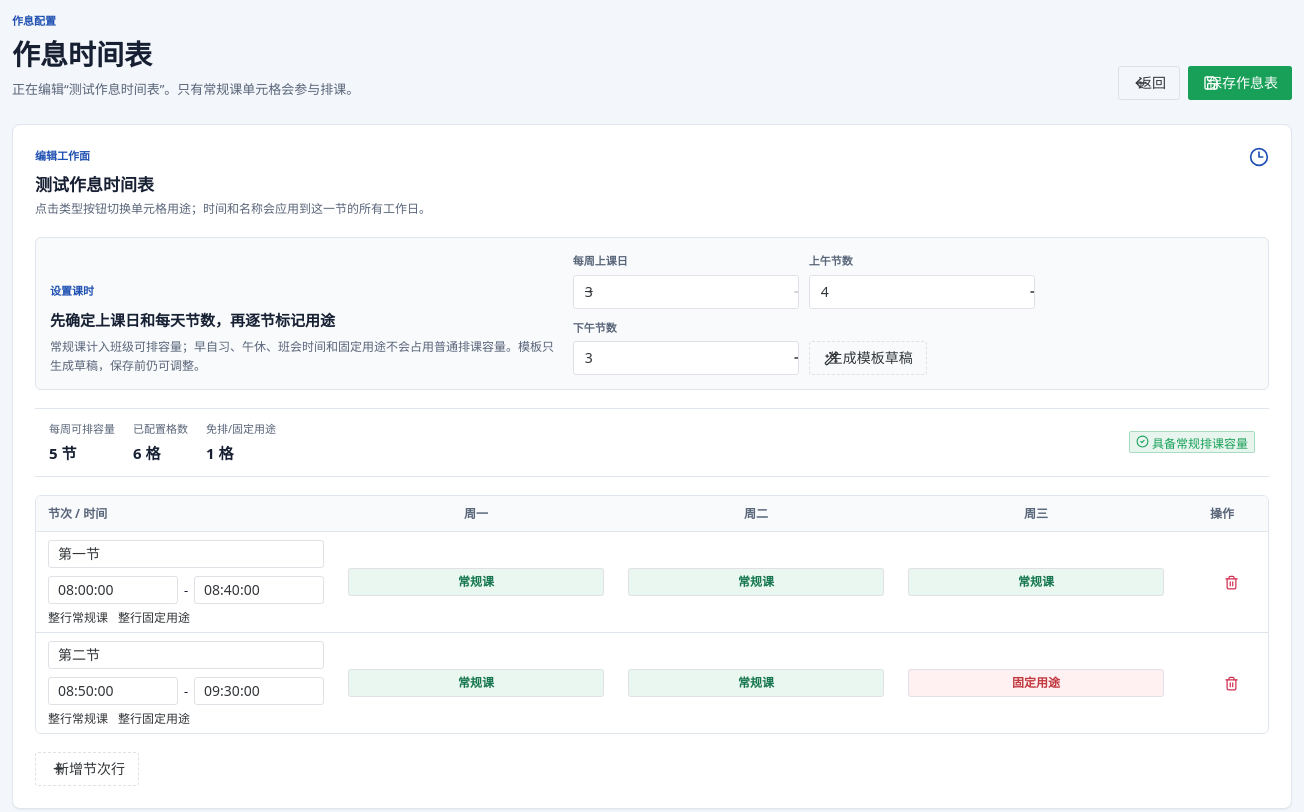
PeriodTableEditor › 时间无法解析时在页面内阻止提交
This screenshot has width=1304, height=812.
Replace the text in the 5th field with "上午八点" at (113, 590), box [58,576,168,604]
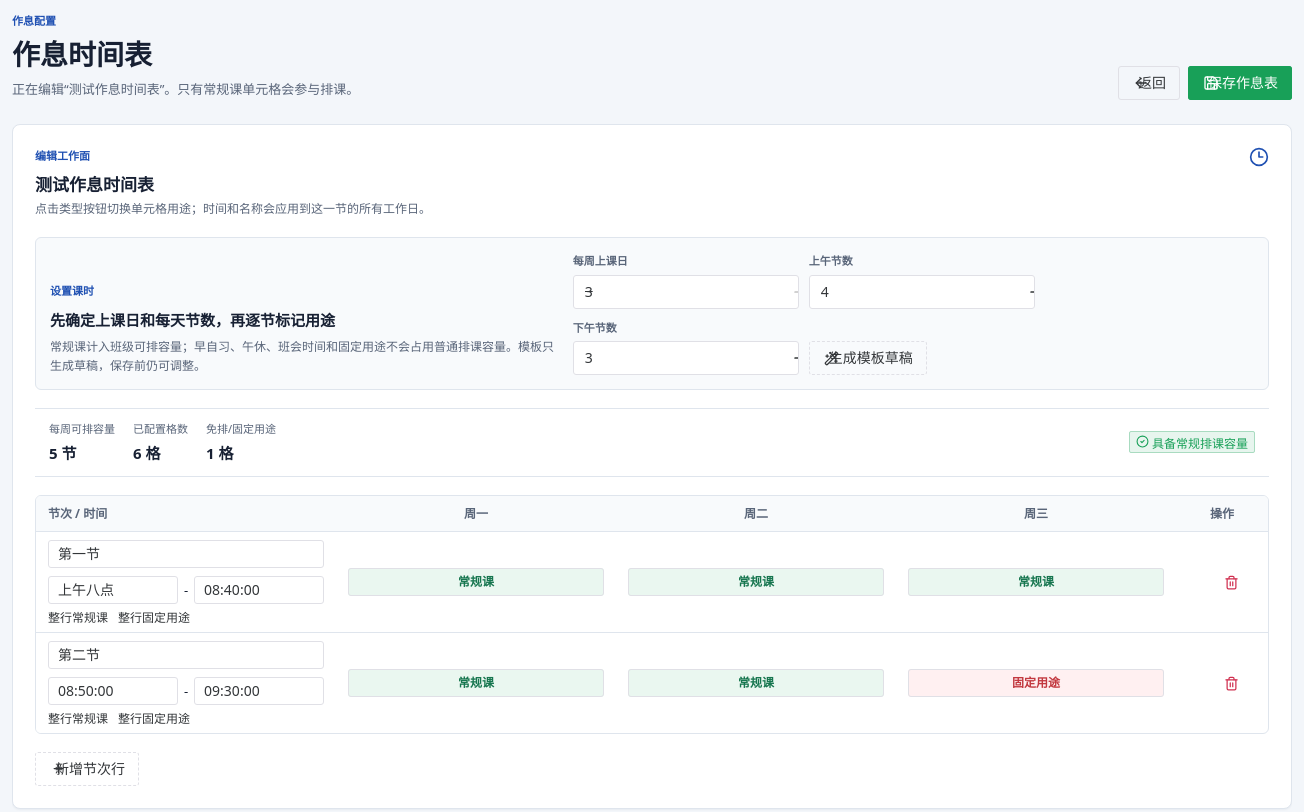
Click the button with test id "period-table-save" at (1240, 83), box [1188,66,1292,100]
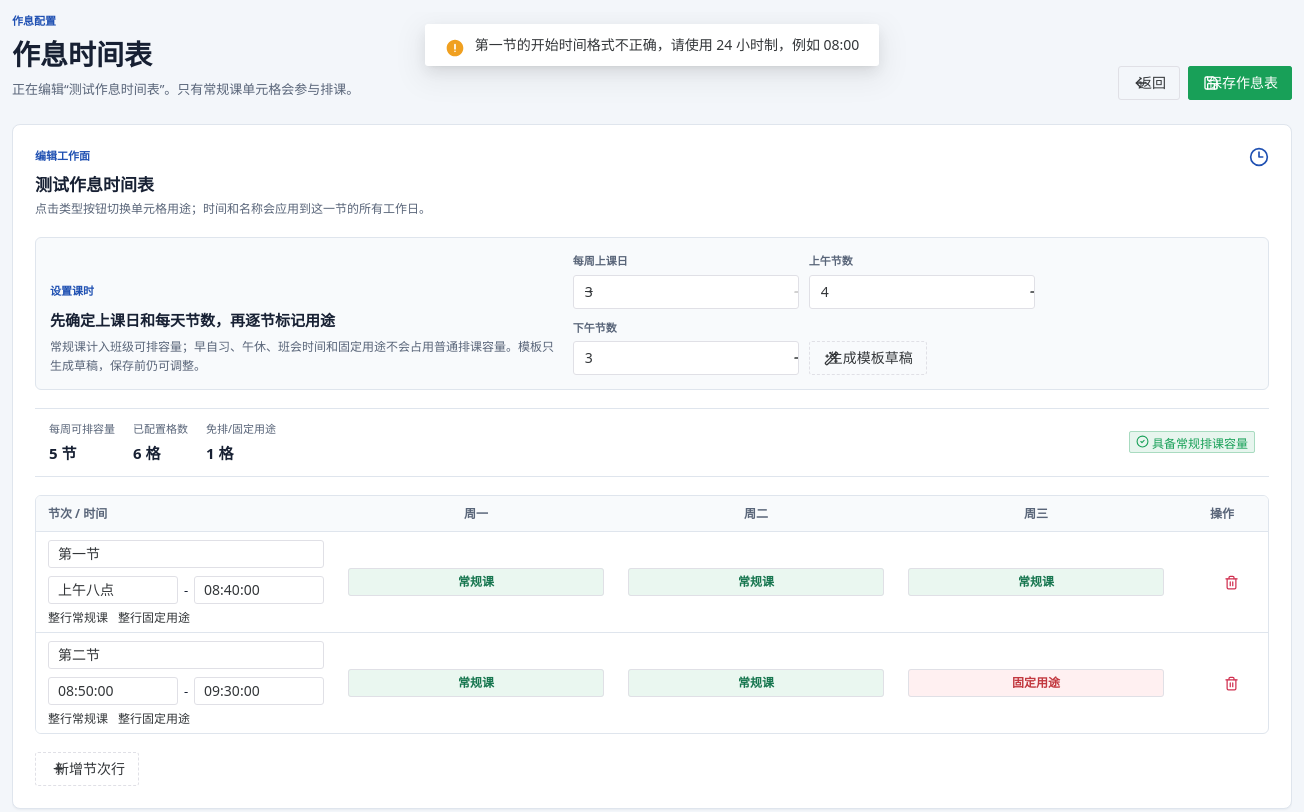
Now the text "第一节的开始时间格式不正确" is shown, box [475,35,859,54]
